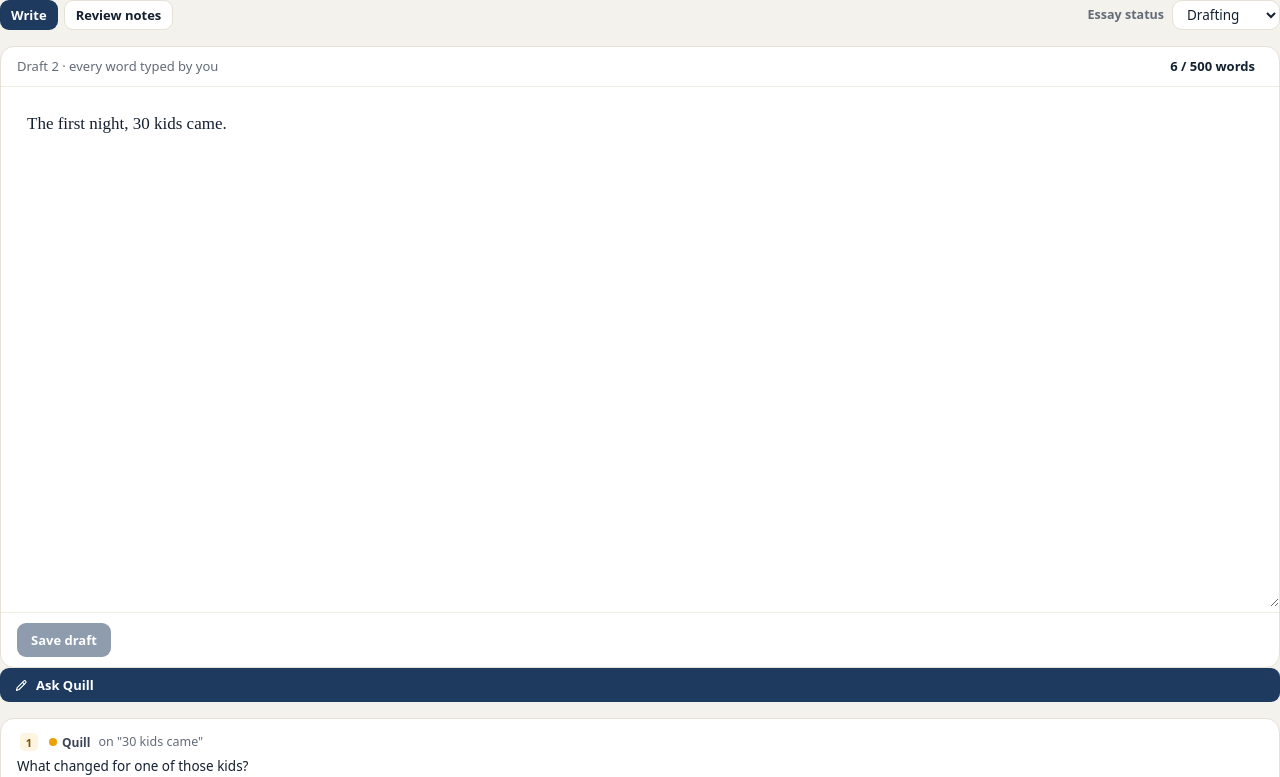
it: EssayWorkspace › opens on the editor and switches to the review view with highlights
Step 1. Click the button "Review notes" → {"x": 118, "y": 15}, box 64,0 -> 173,30
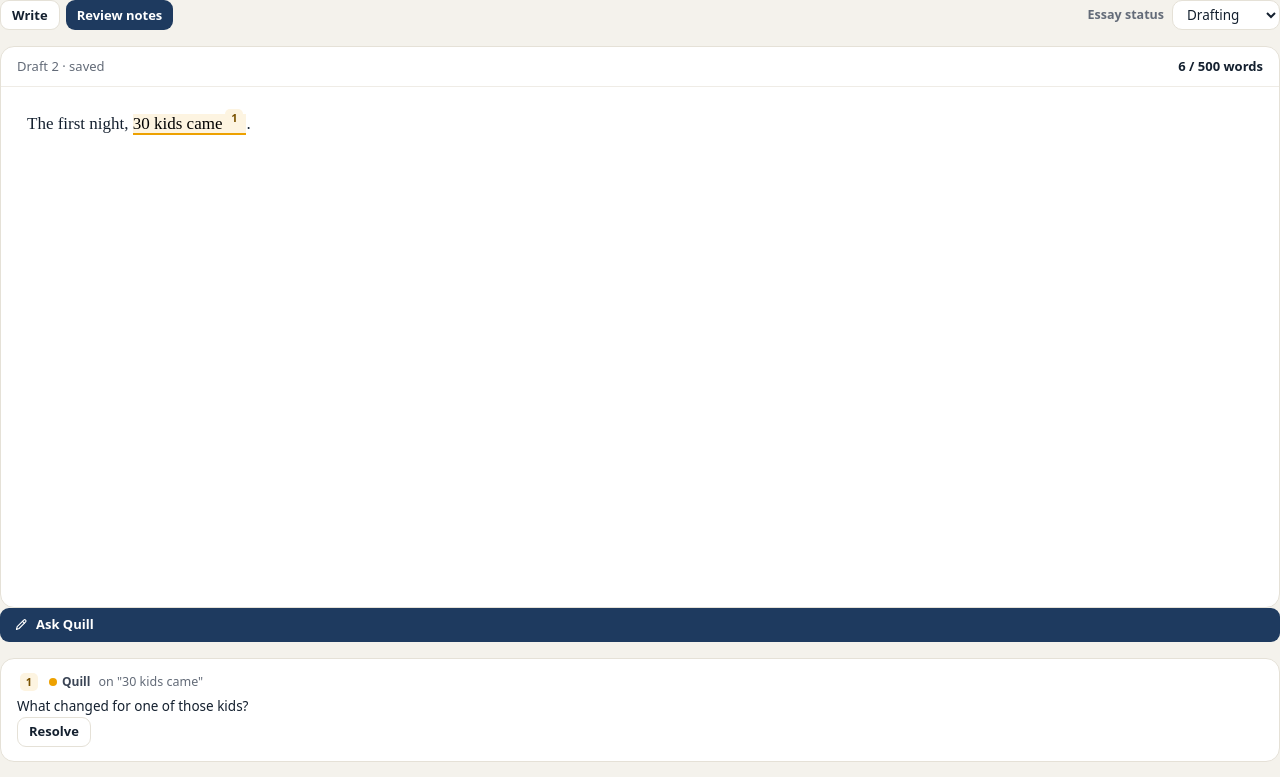
Expected: the element showing "30 kids came 1" is shown, 133,114 -> 246,135
